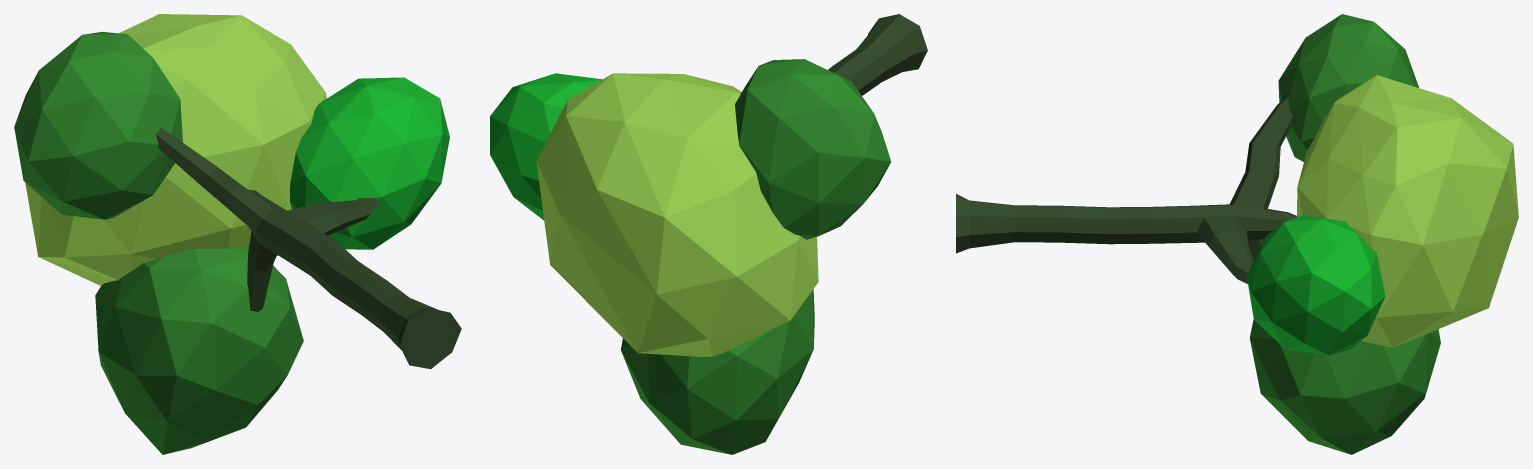
Rendered from OakTree_6.fbx.
3 views of the same model, side by side, from view 1: azimuth 30°, elevation 25°; view 2: azimuth 150°, elevation 25°; view 3: azimuth 270°, elevation 25° (orthographic). The views are drawn at different scales.
Visible parts, largest first — view 1: OakTree_6; view 2: OakTree_6; view 3: OakTree_6.
Part boxes in pixels (box(x1,y1,x2,y2)): OakTree_6: box(14, 14, 461, 454); OakTree_6: box(490, 14, 927, 454); OakTree_6: box(956, 14, 1518, 454).
Bounding box in the file's own units: 571 × 564 × 745.
